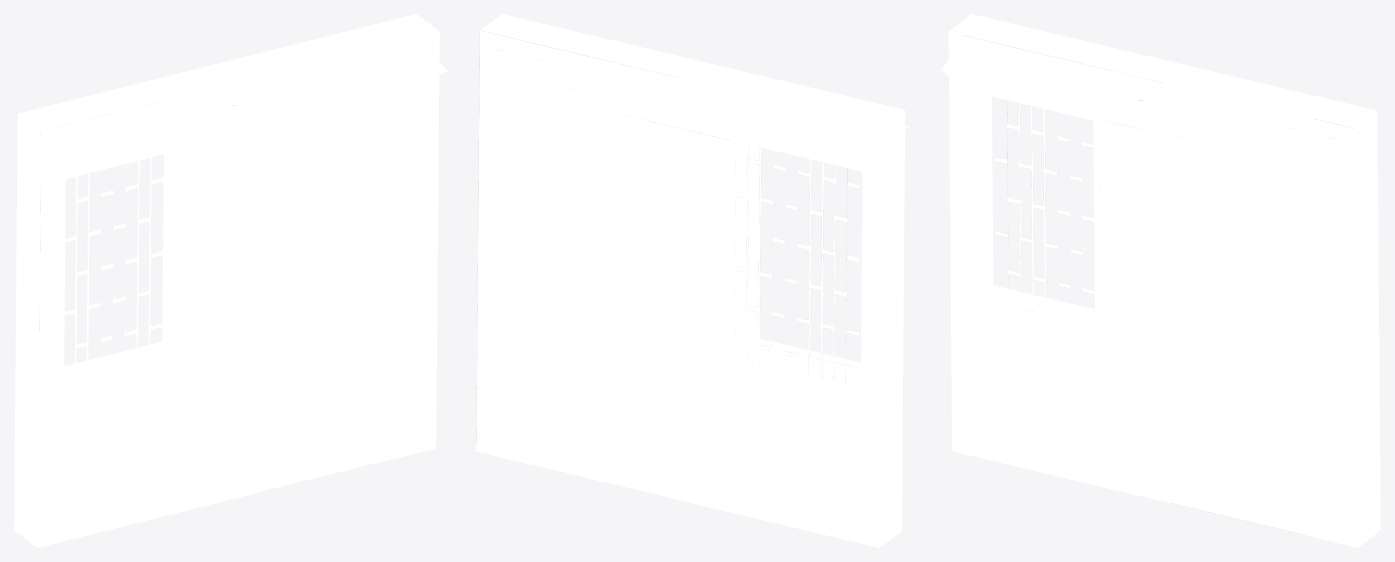
3 views of the same model, side by side, from view 1: azimuth 30°, elevation 25°; view 2: azimuth 150°, elevation 25°; view 3: azimuth 330°, elevation 25° (orthographic).
Parts seen in each view (by area): view 1: E_W_1; view 2: E_W_1; view 3: E_W_1.
Part boxes in pixels (x1,y1,x2,y2): E_W_1: (14,14,447,547); E_W_1: (476,14,910,547); E_W_1: (941,14,1380,547).
Size of what is drawn, in the model's own units: 294 by 294 by 53.84.
1 material, 1 textured.
